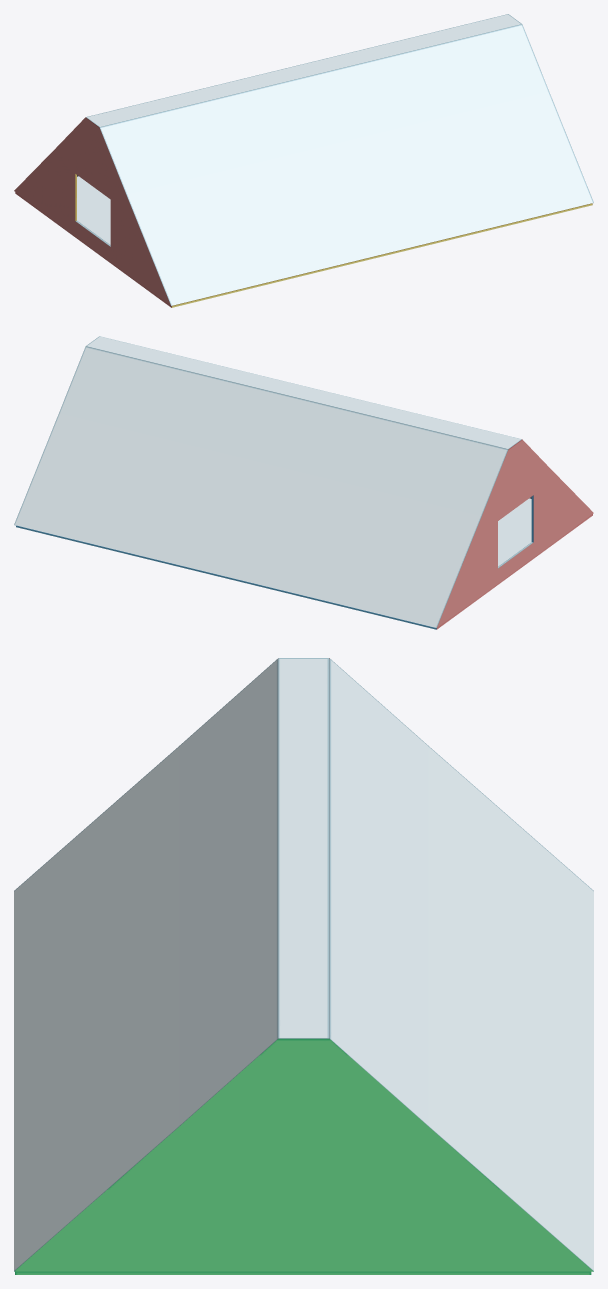
File: house_m2.fbx
3 views of the same model, one above another, from view 1: azimuth 30°, elevation 25°; view 2: azimuth 150°, elevation 25°; view 3: azimuth 270°, elevation 25° (orthographic). The views are drawn at different scales.
Visible parts, largest first — view 1: Rooftop, Ground1; view 2: Rooftop, Ground1; view 3: Rooftop, Ground1.
Boxes of the visible parts, x1=… form: Rooftop: x1=14, y1=14, x2=593, y2=305; Ground1: x1=15, y1=176, x2=592, y2=307; Rooftop: x1=14, y1=336, x2=593, y2=628; Ground1: x1=16, y1=498, x2=592, y2=629; Rooftop: x1=14, y1=658, x2=593, y2=1271; Ground1: x1=15, y1=1271, x2=591, y2=1274.
Bounding box in the file's own units: 1406 × 409 × 906.
Materials: 2 (2 with a texture image).
